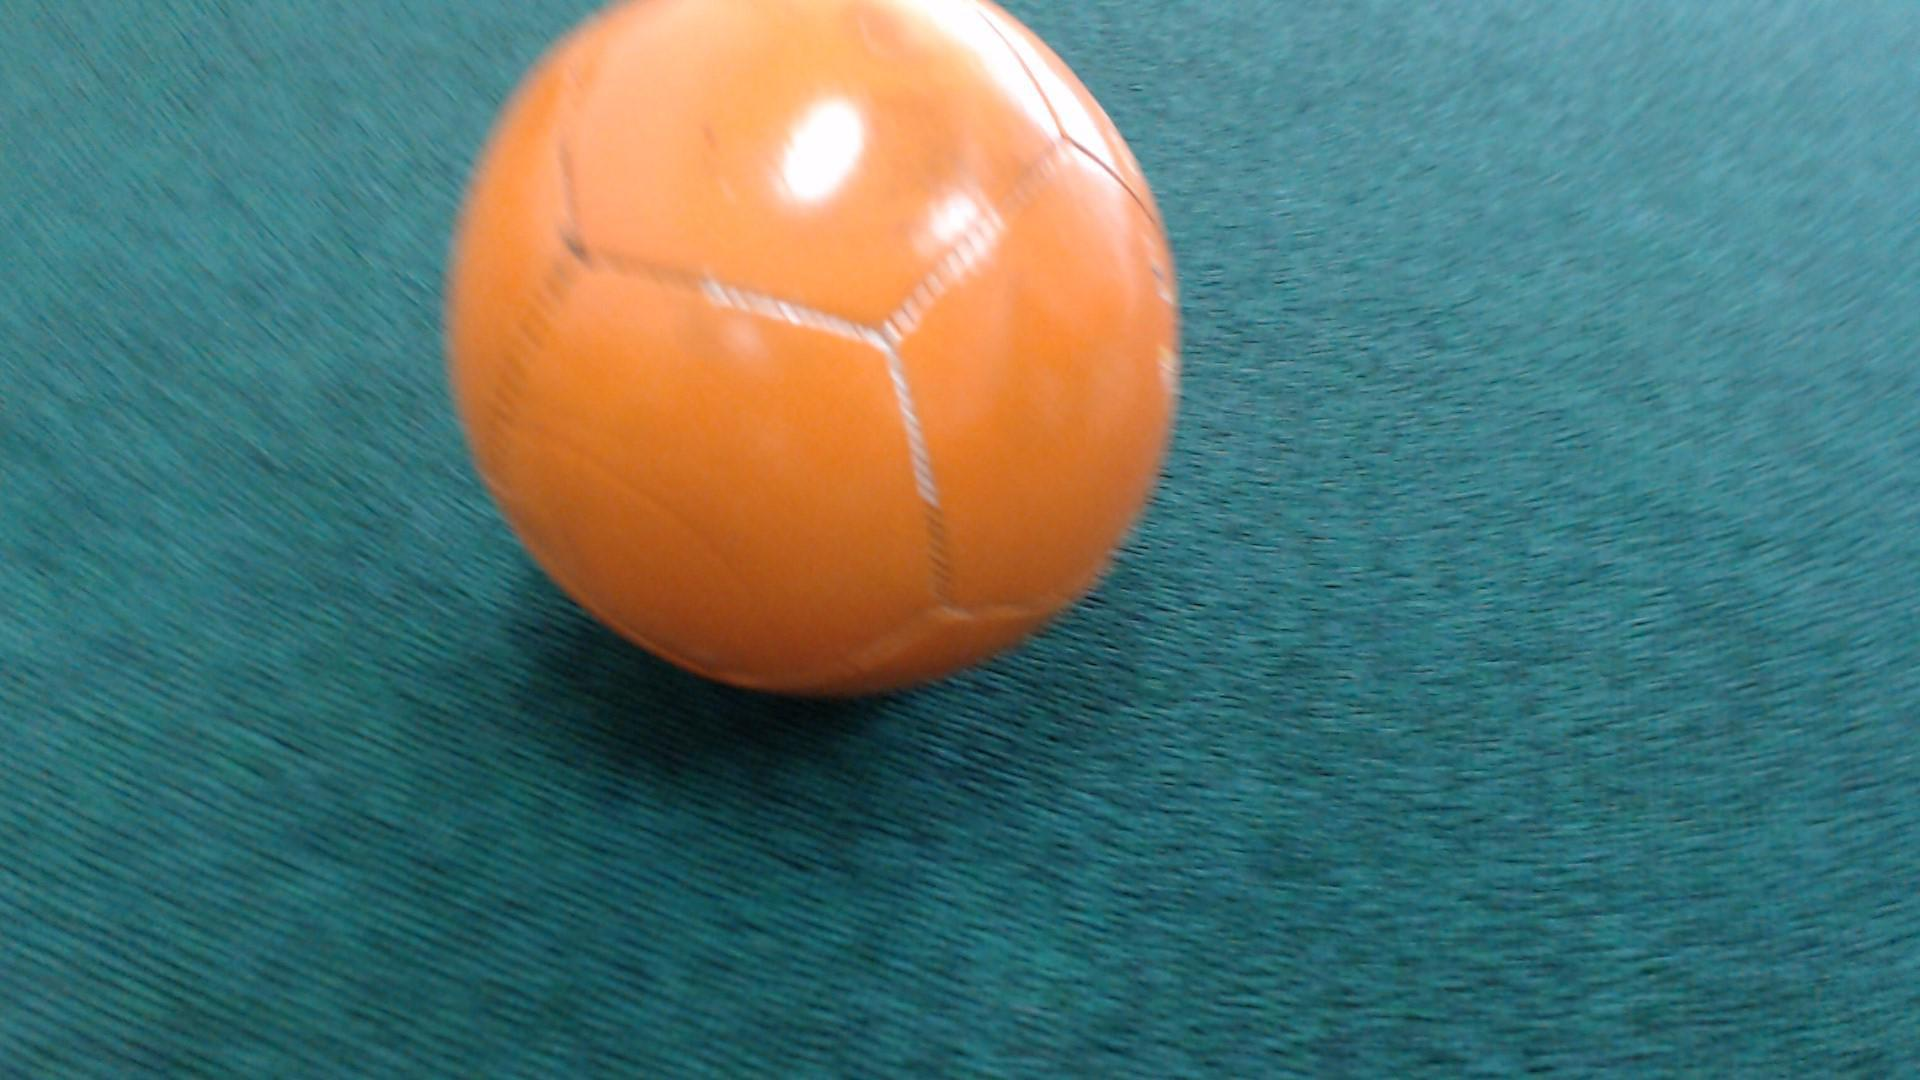bola: (434, 0, 1217, 723)
